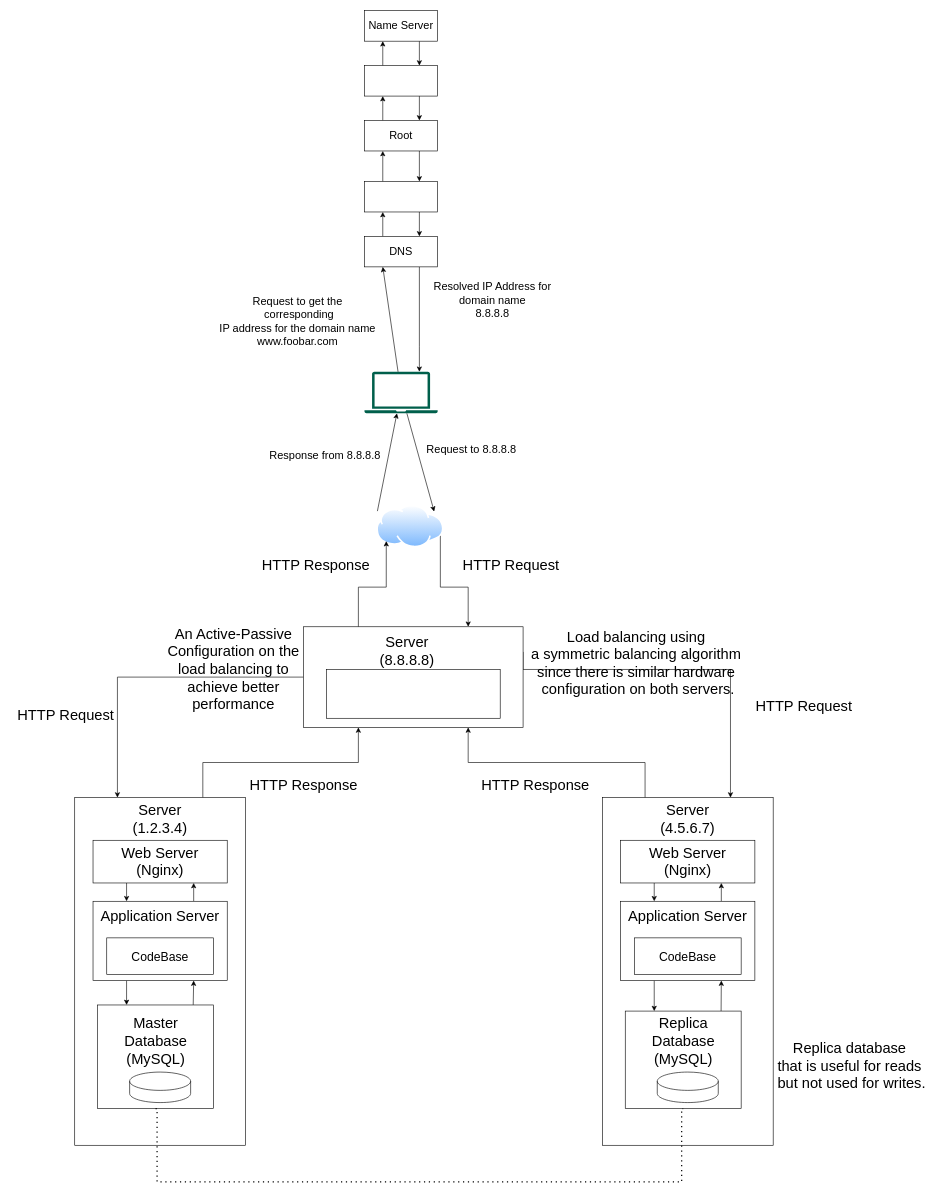
Some shapes in this 942 by 1194 pixel diagram are drawn without their labels. Here are the shapes that lost their labels. From the top down, the centre of each, then its label:
At point (401, 80): "Top Level Domain".
At point (401, 196): "Resolver".
At point (409, 526): "Internet".
At point (413, 693): "Load Balancer (HAProxy)".
